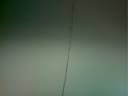window: (0, 11, 32, 96), (39, 47, 62, 59), (39, 87, 67, 96), (92, 66, 97, 71)
